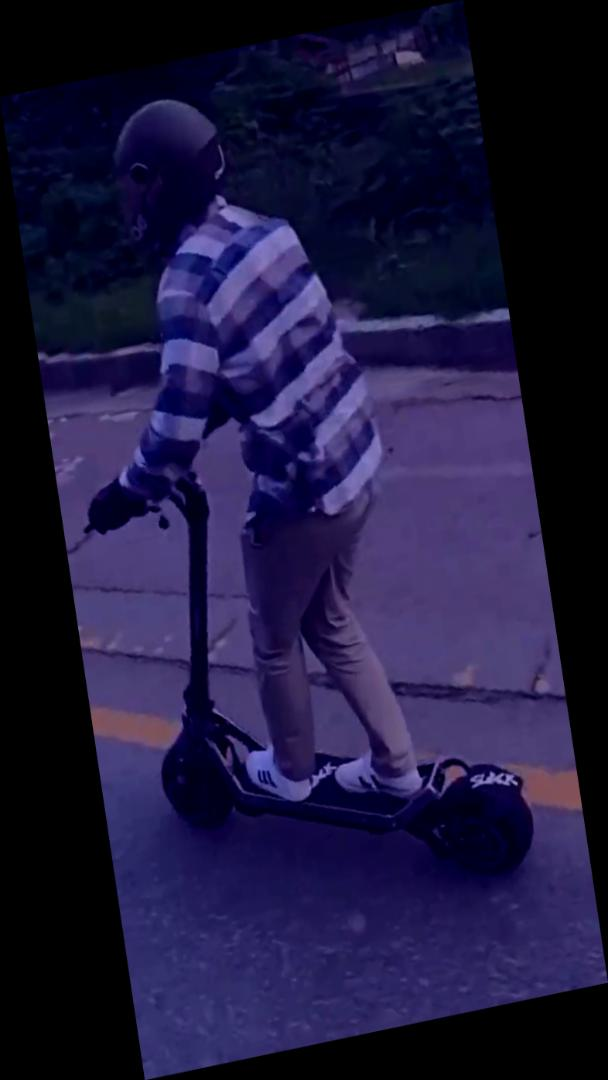helmet: (22, 41, 542, 950)
